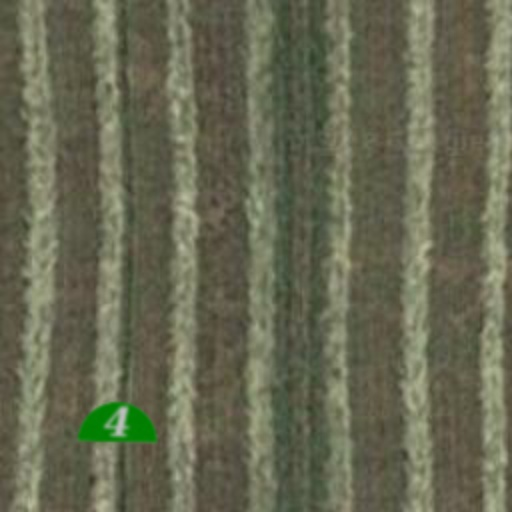semicircle: (76, 380, 160, 464)
